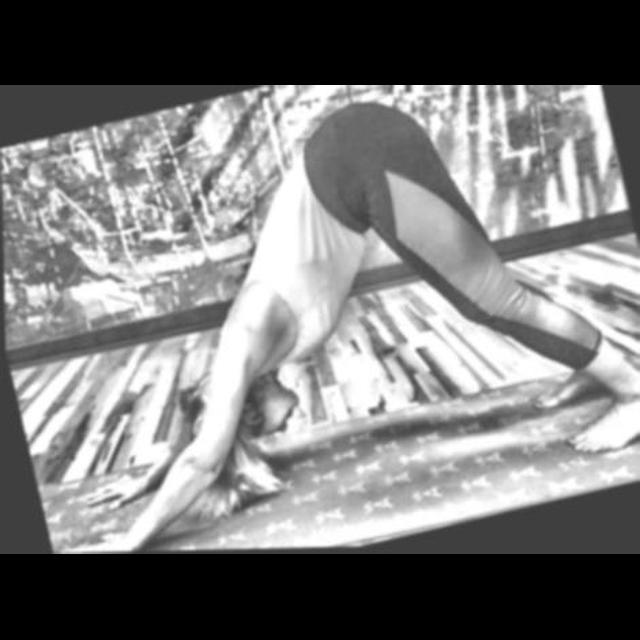Downward-Facing_Dog: (52, 98, 640, 553)
